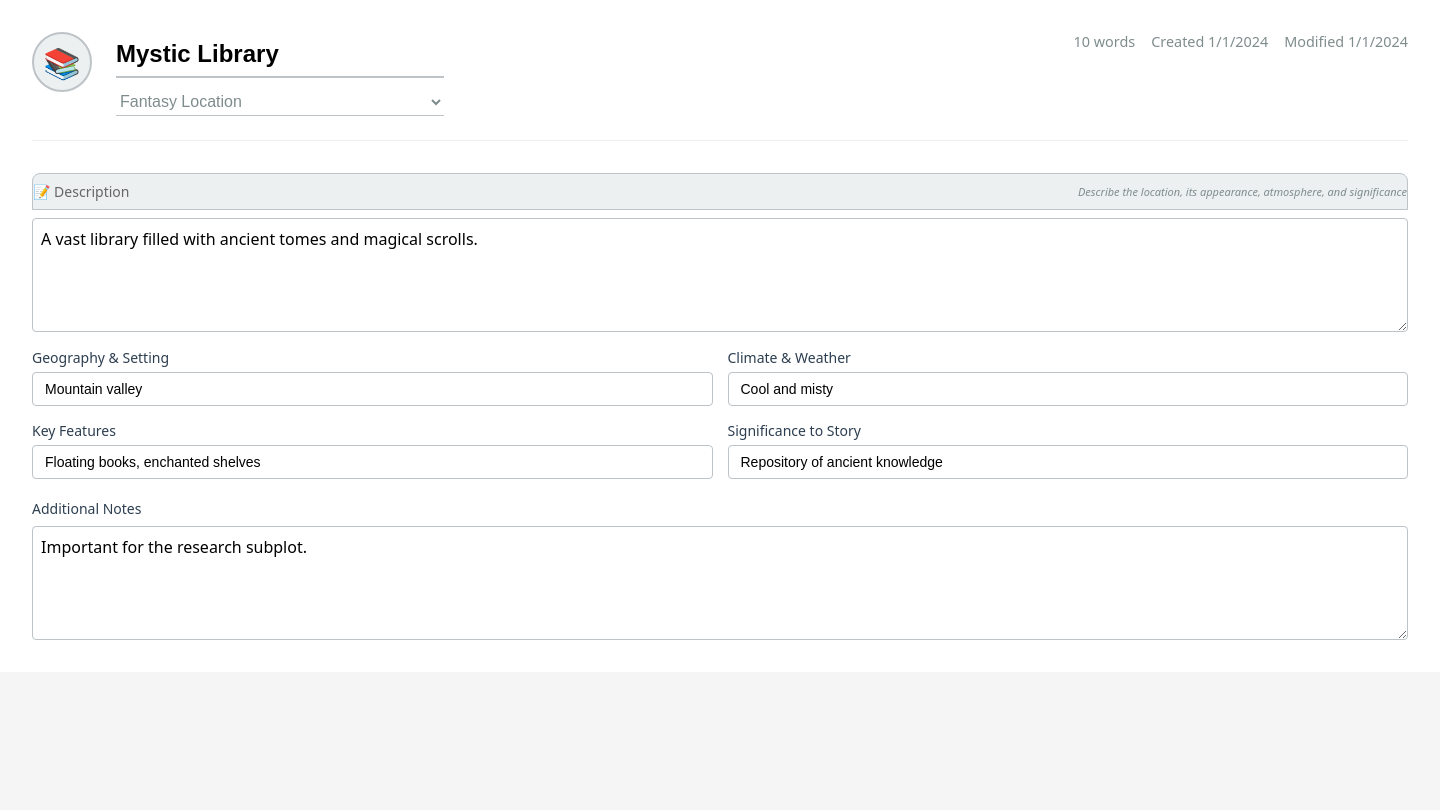
Test: LocationEditor Component › shows icon dropdown when current icon is clicked
Click the text "📚": (62, 62) [32,32,92,92]
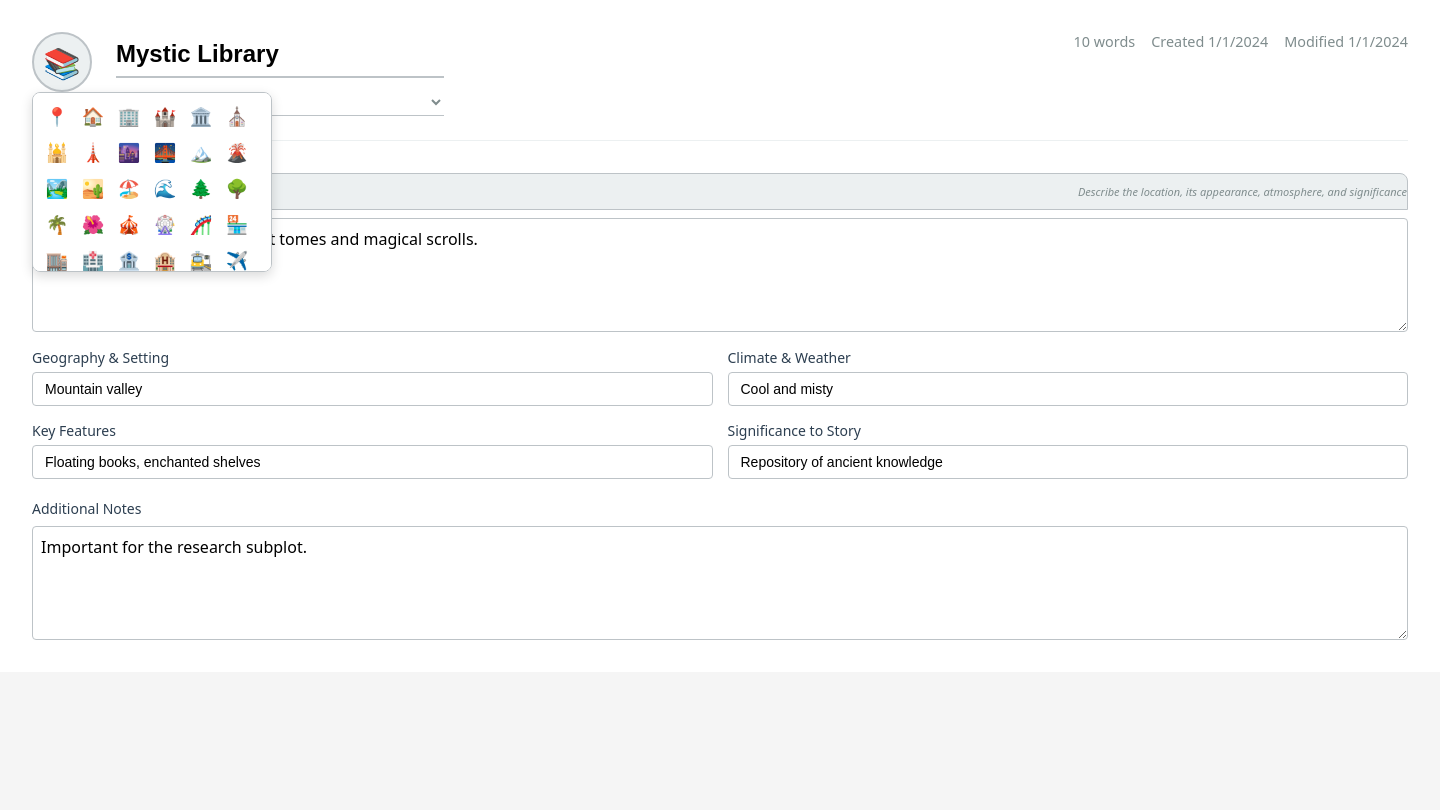
Expected: the button "📍" is shown, [41,101,73,133]
Expected: the button "🏠" is shown, [77,101,109,133]
Expected: the button "🏰" is shown, [149,101,181,133]
